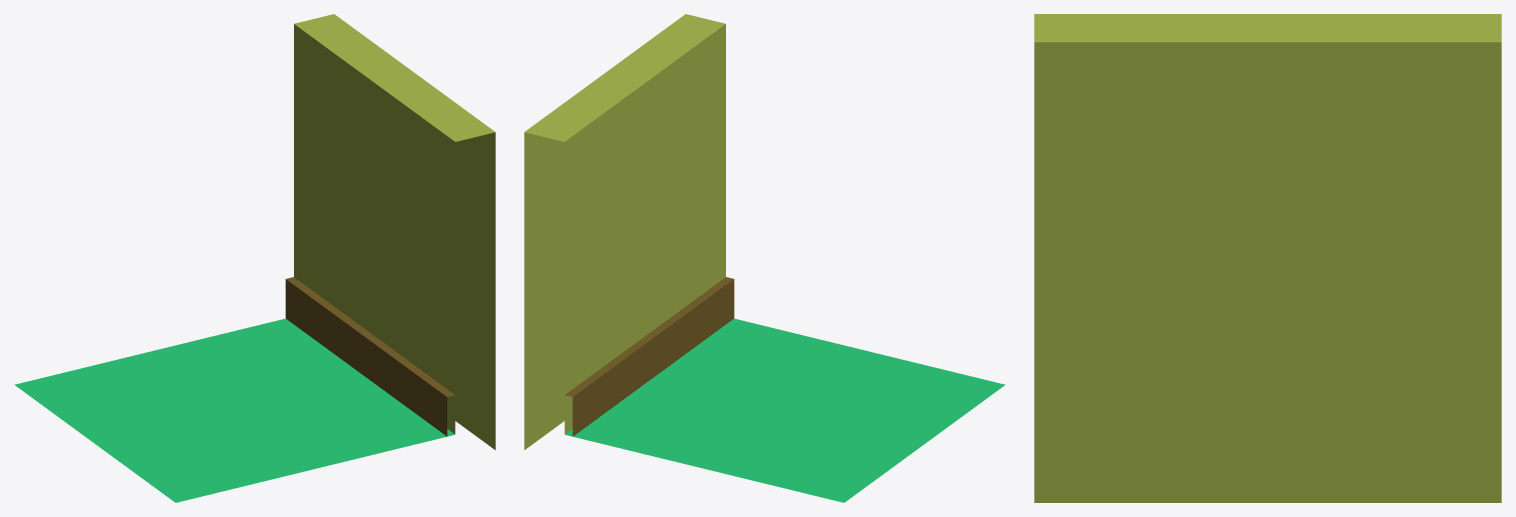
The model's file is ModuleSC_Terr_center.FBX.
3 renders of one model, left to right at view 1: azimuth 30°, elevation 25°; view 2: azimuth 150°, elevation 25°; view 3: azimuth 270°, elevation 25°, orthographic. The views are drawn at different scales.
Visible parts, largest first — view 1: ModuleSC_Terr_wall_02, ModuleSC_Terr_floo_03, ModuleSC_Terr_floo_02, ModuleSC_Terr_skboard_02; view 2: ModuleSC_Terr_wall_02, ModuleSC_Terr_floo_03, ModuleSC_Terr_floo_02, ModuleSC_Terr_skboard_02; view 3: ModuleSC_Terr_wall_02.
Part boxes in pixels (x1=…): ModuleSC_Terr_wall_02: x1=294, y1=14, x2=495, y2=449; ModuleSC_Terr_floo_03: x1=14, y1=350, x2=315, y2=502; ModuleSC_Terr_floo_02: x1=154, y1=318, x2=454, y2=468; ModuleSC_Terr_skboard_02: x1=285, y1=277, x2=454, y2=436; ModuleSC_Terr_wall_02: x1=524, y1=14, x2=725, y2=449; ModuleSC_Terr_floo_03: x1=704, y1=350, x2=1005, y2=502; ModuleSC_Terr_floo_02: x1=565, y1=318, x2=865, y2=468; ModuleSC_Terr_skboard_02: x1=565, y1=277, x2=734, y2=436; ModuleSC_Terr_wall_02: x1=1034, y1=14, x2=1501, y2=502.
Bounding box in the file's own units: 45.05 × 42.81 × 39.37.
